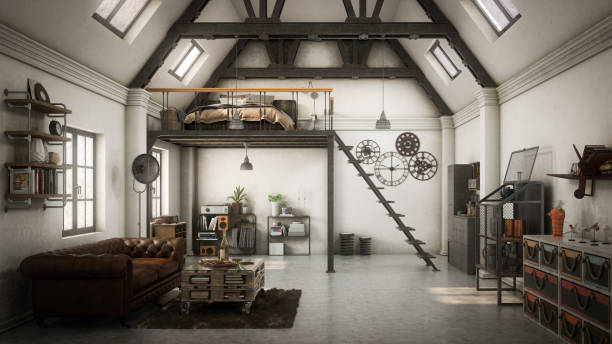small plant: (229, 186, 247, 214), (268, 191, 283, 217)
sofa: (18, 235, 188, 326)
table: (181, 252, 264, 314)
